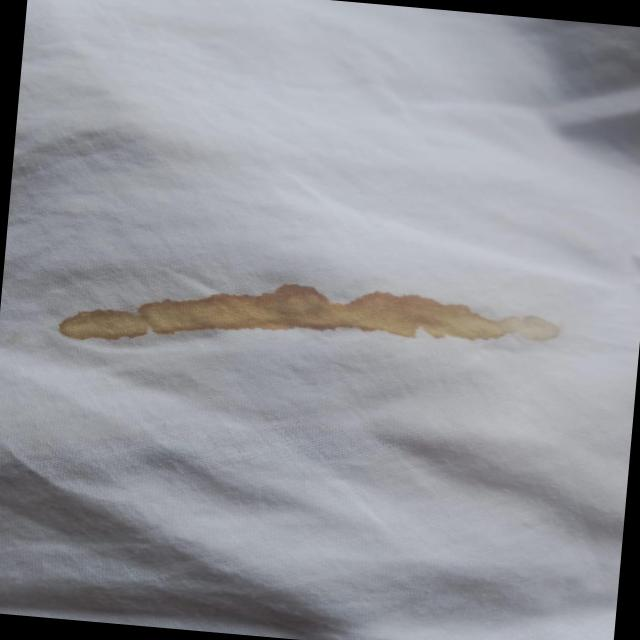stain: (38, 262, 580, 386)
